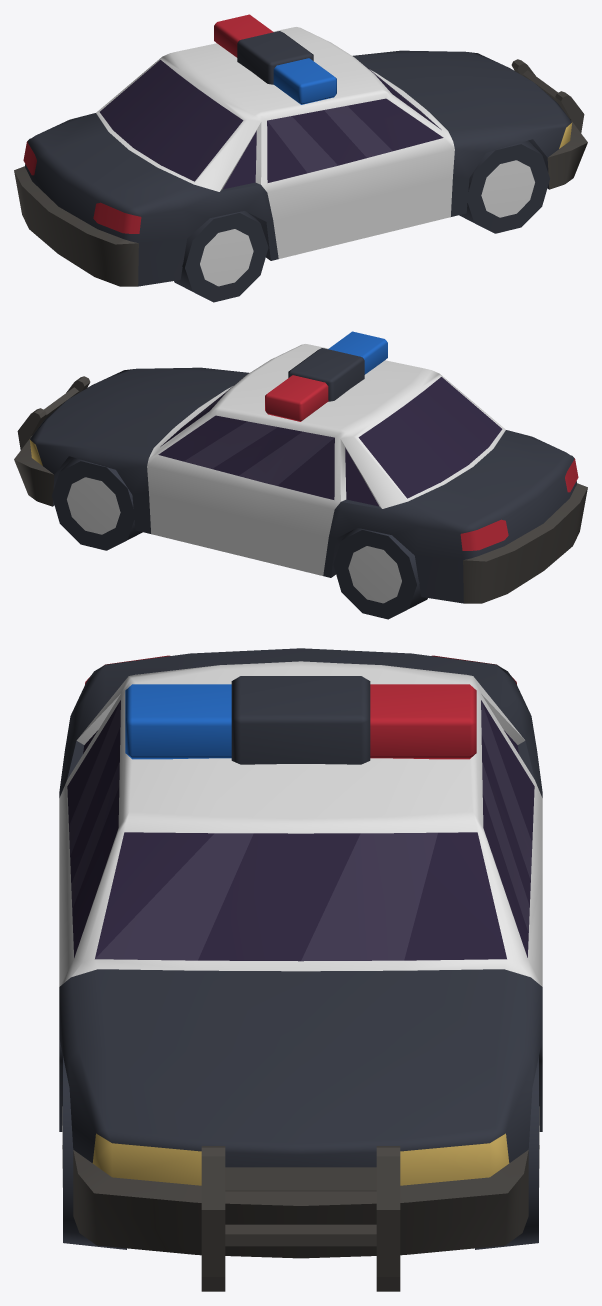
The model's file is Police.fbx.
3 views of the same model, one above another, from view 1: azimuth 30°, elevation 25°; view 2: azimuth 150°, elevation 25°; view 3: azimuth 270°, elevation 25° (orthographic). The views are drawn at different scales.
Parts seen in each view (by area): view 1: Police; view 2: Police; view 3: Police.
Part boxes in pixels (x1=…): Police: x1=14, y1=14, x2=587, y2=302; Police: x1=14, y1=331, x2=587, y2=619; Police: x1=59, y1=648, x2=542, y2=1291.
Size of the model in its own units: 20.85 by 7.27 by 8.54.
